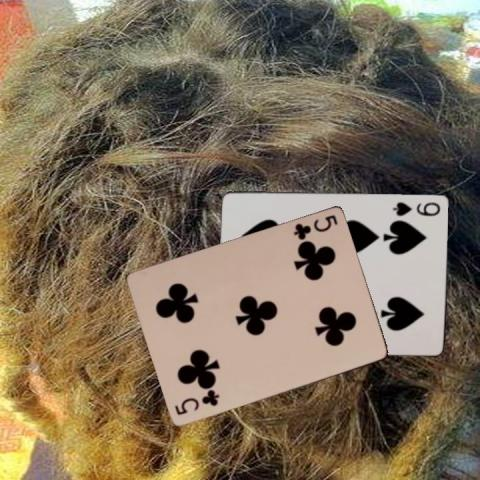5c: (290, 212, 339, 242), (171, 388, 221, 416)
9s: (390, 199, 442, 217)
